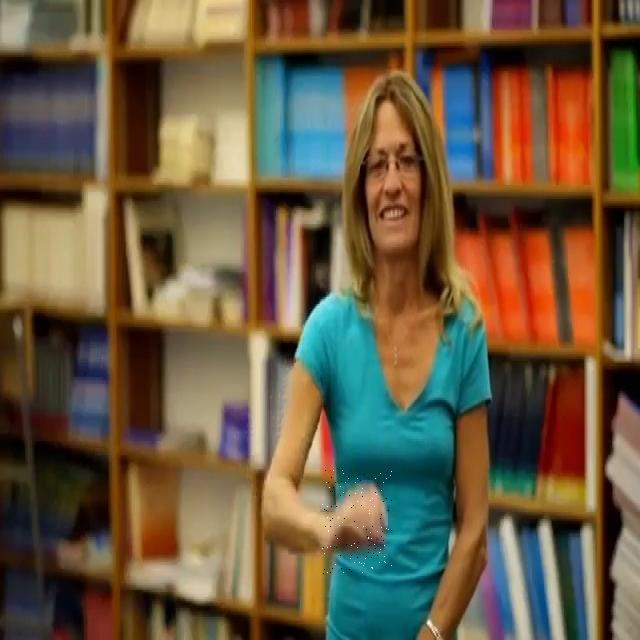pepper: (322, 470, 392, 574)
